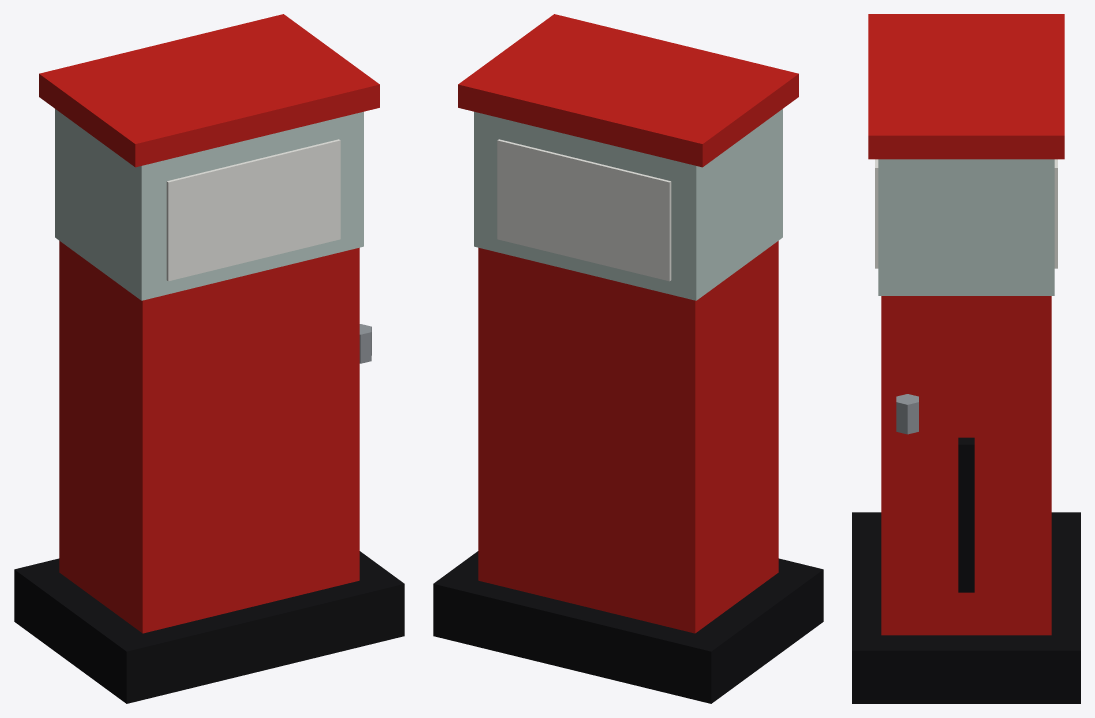
Rendered from pump.obj.
3 renders of one model, left to right at view 1: azimuth 30°, elevation 25°; view 2: azimuth 150°, elevation 25°; view 3: azimuth 270°, elevation 25°, orthographic.
Parts seen in each view (by area): view 1: pump; view 2: pump; view 3: pump.
Part boxes in pixels (x1,y1,x2,y2): pump: [14, 14, 404, 703]; pump: [433, 14, 823, 703]; pump: [852, 14, 1080, 703].
Size of the model in its own units: 1 by 1.89 by 0.7.
